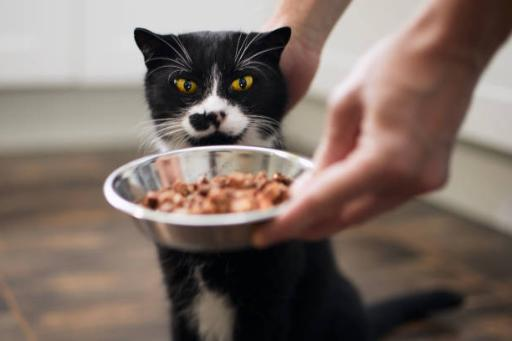cat_eating: (105, 27, 463, 340)
